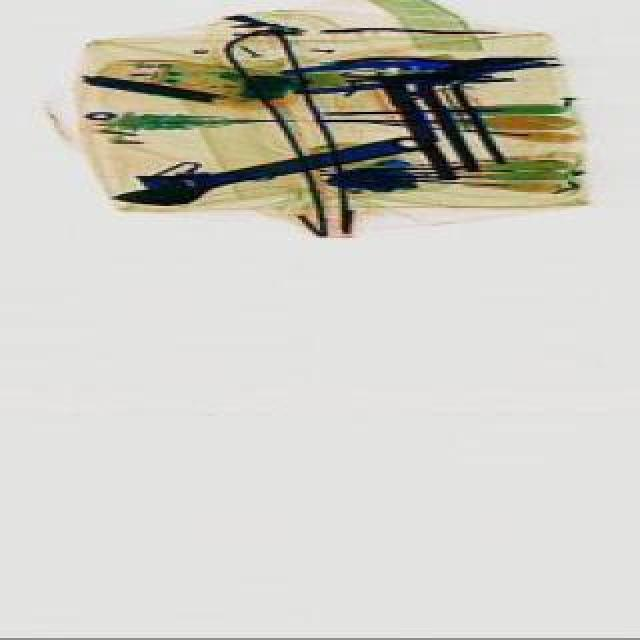scissors: (104, 124, 416, 216)
wrench: (334, 38, 550, 94)
